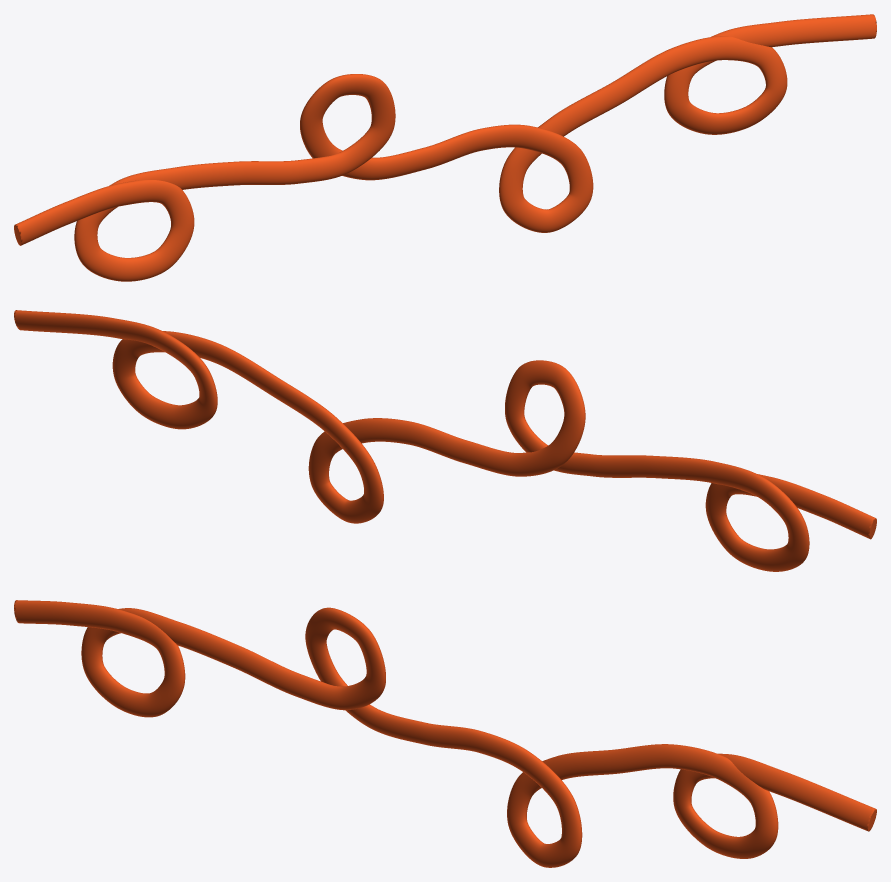
File: services-ribbon.glb
The picture shows the model from 3 angles, top to bottom: view 1: azimuth 30°, elevation 25°; view 2: azimuth 150°, elevation 25°; view 3: azimuth 330°, elevation 25°; orthographic projection.
Visible parts, largest first — view 1: Four service ribbon; view 2: Four service ribbon; view 3: Four service ribbon.
Part boxes in pixels (box(x1,y1,x2,y2)): Four service ribbon: box(14, 14, 876, 281); Four service ribbon: box(14, 310, 876, 571); Four service ribbon: box(14, 600, 876, 867).
Size of the model in its own units: 4.38 by 1.01 by 0.1446.
